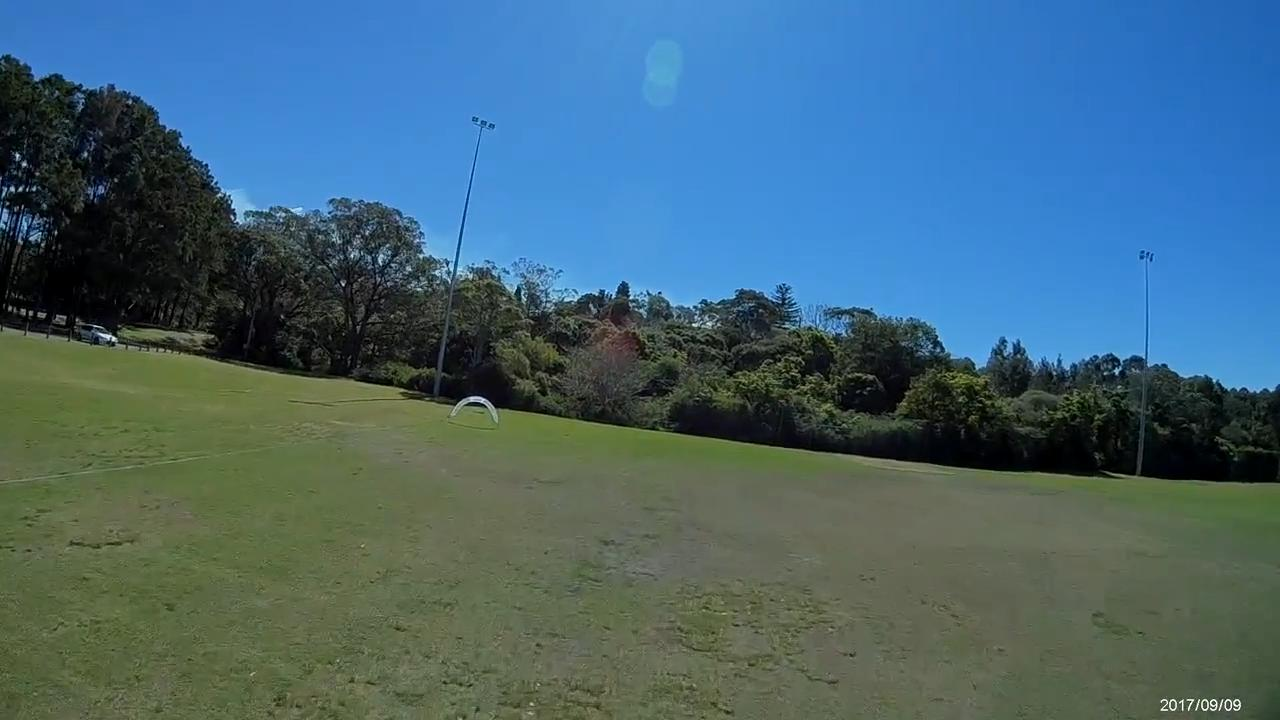gate: (448, 394, 499, 423)
